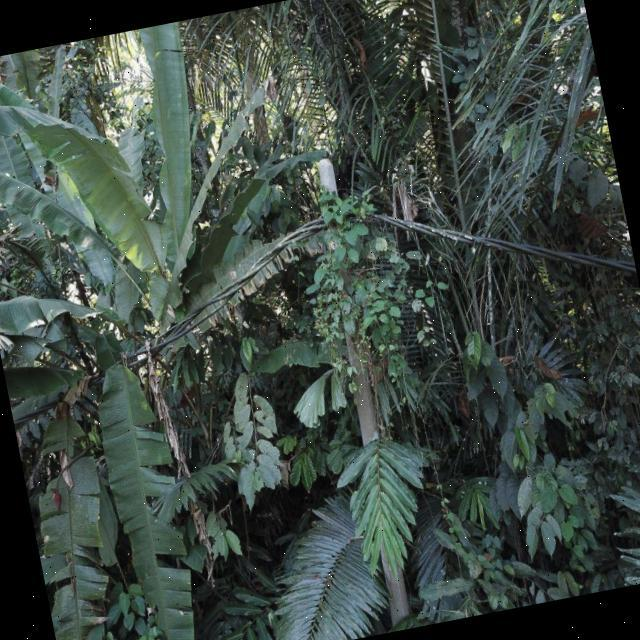critical vegetation: (280, 161, 438, 384)
